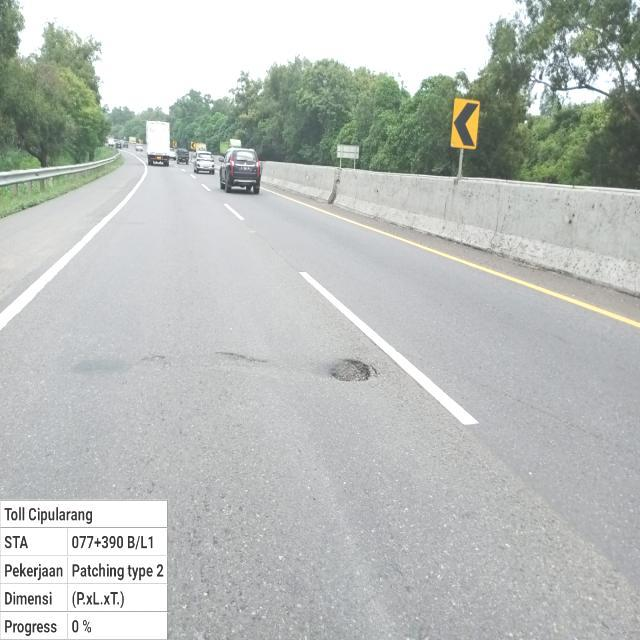Buraco: (327, 356, 381, 384)
